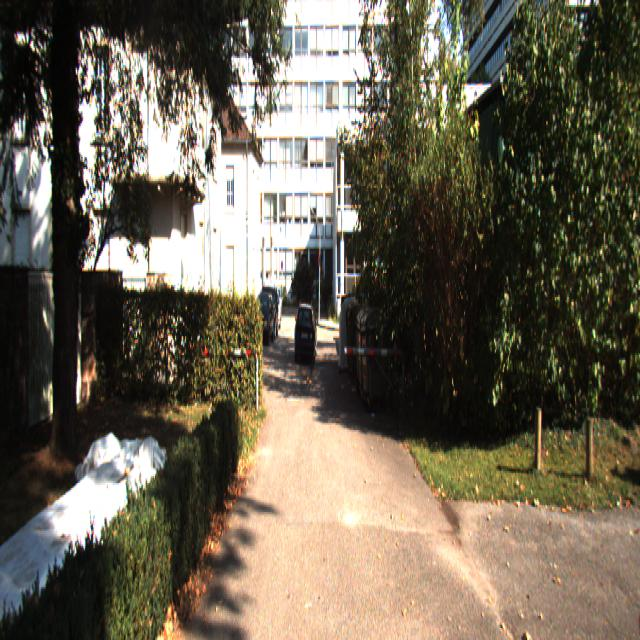Car: (627, 323, 640, 638), (294, 302, 318, 364), (252, 292, 275, 345)
